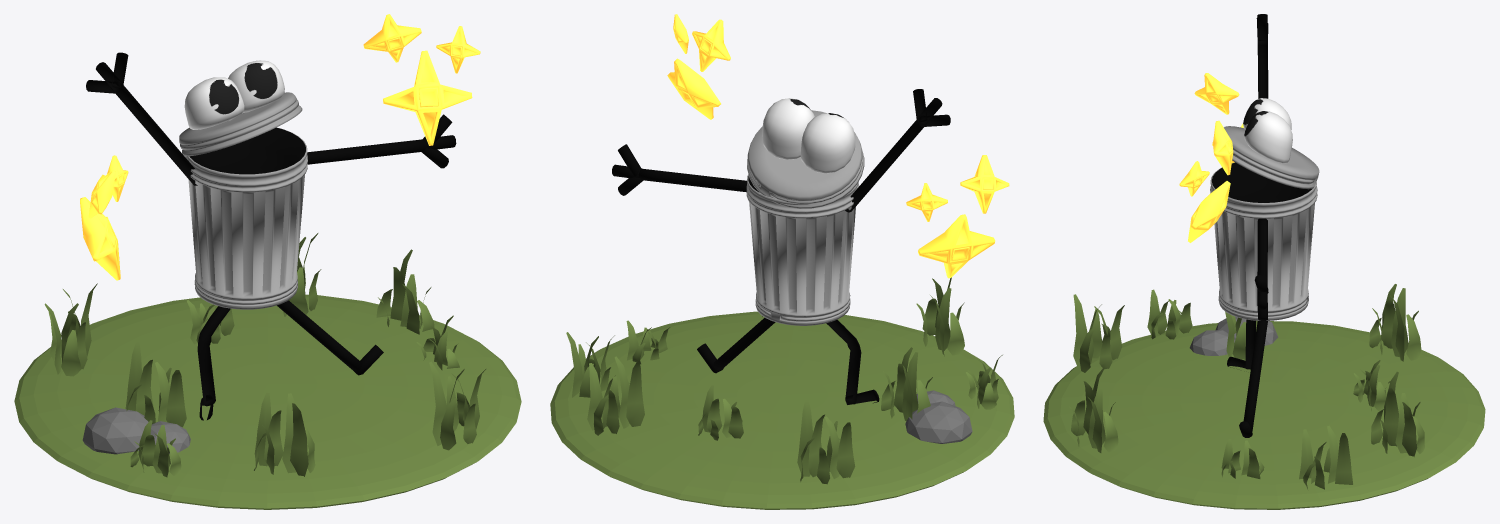
3 views of the same model, side by side, from view 1: azimuth 30°, elevation 25°; view 2: azimuth 150°, elevation 25°; view 3: azimuth 270°, elevation 25° (orthographic). The views are drawn at different scales.
Parts seen in each view (by area): view 1: Sphere_9, ey.003_2, Cube.001_8, ey.002_1, Plane.006_15, ey.001_0, Cube.002_7, Icosphere.001_19, Plane.001_10, Plane.004_13, ey.007_6, ey.004_3 (+8 smaller); view 2: Sphere_9, ey.003_2, ey.002_1, ey.001_0, Cube.002_7, Cube.001_8, Plane.003_12, Plane.002_11, Icosphere.001_19, ey.004_3, ey.007_6, Plane.006_15 (+7 smaller); view 3: Sphere_9, ey.003_2, ey.002_1, Cube.001_8, ey.001_0, Plane.002_11, Plane.006_15, Plane.003_12, Plane.005_14, Plane.004_13, Plane.009_18, ey.005_4 (+8 smaller).
Part boxes in pixels (box(x1,y1,x2,y2)): Sphere_9: box(14, 294, 521, 509); ey.003_2: box(185, 127, 307, 309); Cube.001_8: box(363, 14, 480, 145); ey.002_1: box(184, 60, 284, 129); Plane.006_15: box(254, 392, 315, 476); ey.001_0: box(179, 92, 302, 156); Cube.002_7: box(80, 155, 128, 280); Icosphere.001_19: box(82, 407, 190, 454); Plane.001_10: box(125, 341, 186, 427); Plane.004_13: box(429, 361, 485, 450); ey.007_6: box(86, 52, 197, 185); ey.004_3: box(307, 114, 456, 168); Sphere_9: box(550, 311, 1014, 509); ey.003_2: box(746, 174, 859, 325); ey.002_1: box(762, 98, 855, 173); ey.001_0: box(747, 110, 864, 208); Cube.002_7: box(906, 155, 1009, 278); Cube.001_8: box(667, 14, 730, 119); Plane.003_12: box(797, 399, 855, 484); Plane.002_11: box(587, 356, 644, 435); Icosphere.001_19: box(905, 390, 972, 443); ey.004_3: box(612, 144, 746, 195); ey.007_6: box(845, 89, 950, 212); Plane.006_15: box(916, 277, 964, 356); Sphere_9: box(1043, 321, 1485, 509); ey.003_2: box(1210, 162, 1317, 320); ey.002_1: box(1243, 98, 1292, 163); Cube.001_8: box(1179, 120, 1233, 242); ey.001_0: box(1224, 126, 1319, 189); Plane.002_11: box(1371, 371, 1424, 456); Plane.006_15: box(1073, 294, 1124, 372); Plane.003_12: box(1369, 284, 1421, 361); Plane.005_14: box(1299, 425, 1352, 489); Plane.004_13: box(1069, 367, 1118, 452); Plane.009_18: box(1147, 289, 1192, 339); ey.005_4: box(1239, 321, 1267, 437).
Bounding box in the file's own units: 1.61 × 1.41 × 1.61.
Materials: 6 (1 with a texture image).
